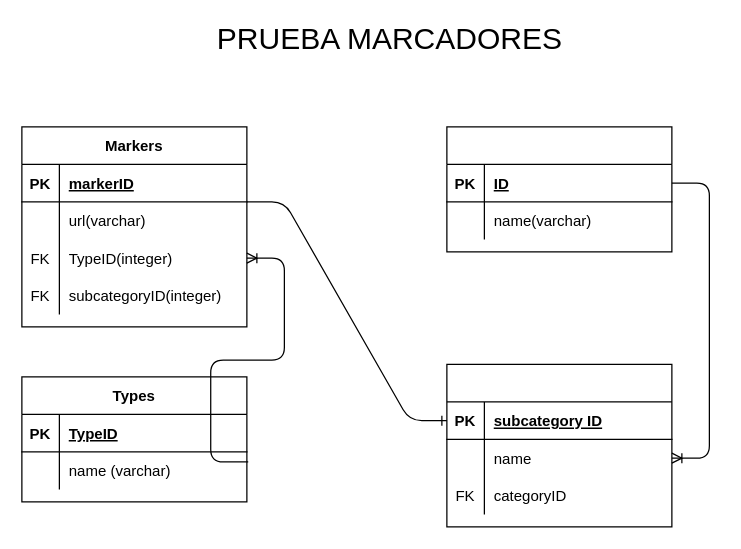
This 741x549 diagram has some shape labels left out. Here are the shapes that lost their labels. From the top down, the box of each, then its label:
(446, 126, 672, 252): categories
(446, 363, 672, 527): subcategories
